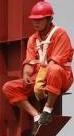boots: (39, 103, 57, 124), (30, 113, 42, 135)
gloves: (30, 61, 52, 98), (20, 59, 37, 85)
hard-hat: (28, 1, 54, 19)
ppe-suit: (0, 0, 70, 94)
